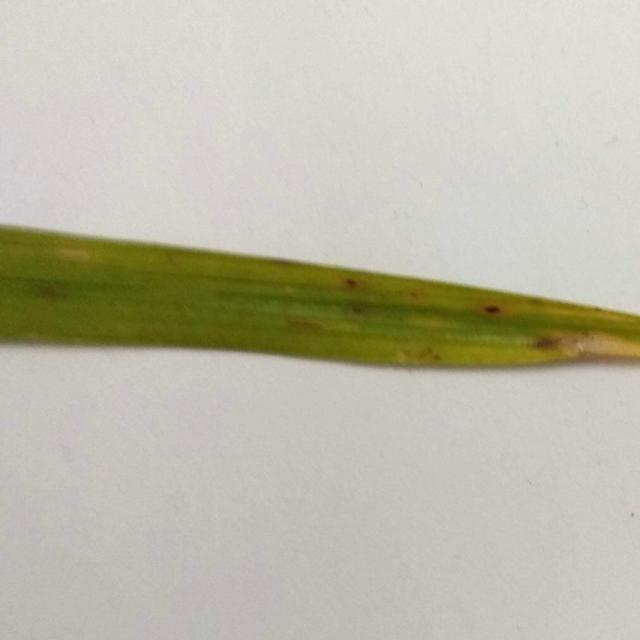Brown spot: (2, 178, 640, 421)
